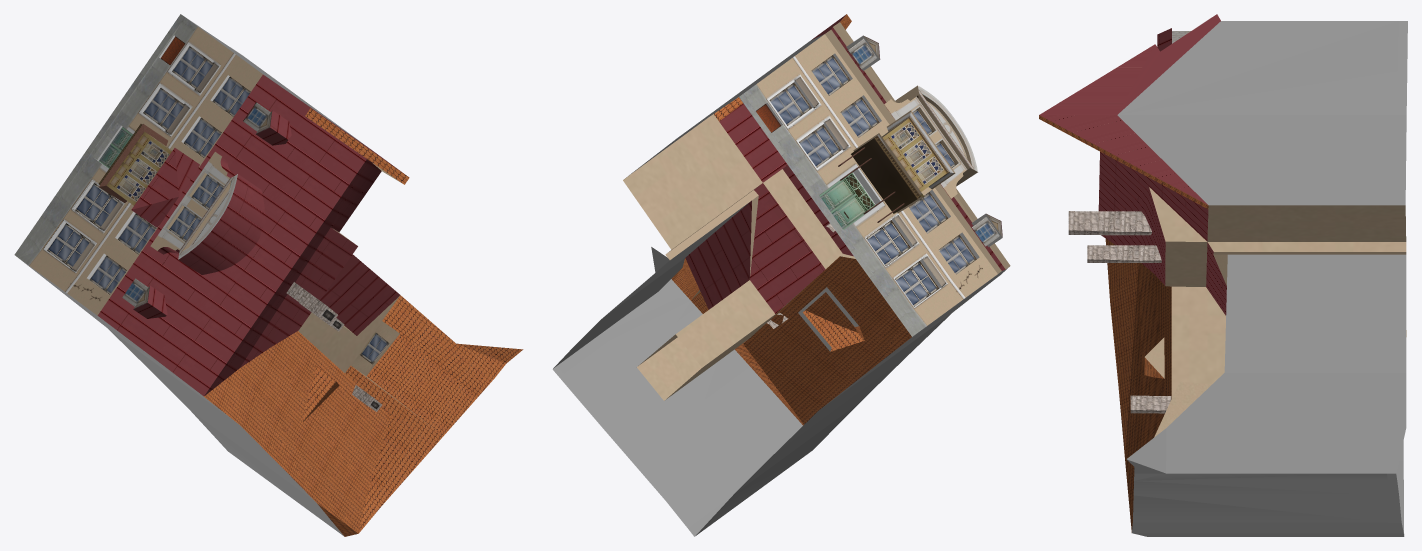
File: Lai_6.obj
The picture shows the model from 3 angles, left to right: view 1: azimuth 30°, elevation 25°; view 2: azimuth 150°, elevation 25°; view 3: azimuth 270°, elevation 25°; orthographic projection. The views are drawn at different scales.
Visible parts, largest first — view 1: Lai_6; view 2: Lai_6; view 3: Lai_6.
Part boxes in pixels (x1,y1,x2,y2): Lai_6: [14, 14, 523, 536]; Lai_6: [552, 14, 1010, 536]; Lai_6: [1039, 14, 1407, 536].
Size of the model in its own units: 20.57 by 22.97 by 15.48.
Materials: 6 (5 with a texture image).
